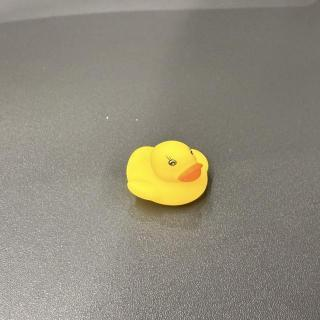duck_regular: (129, 141, 209, 207)
